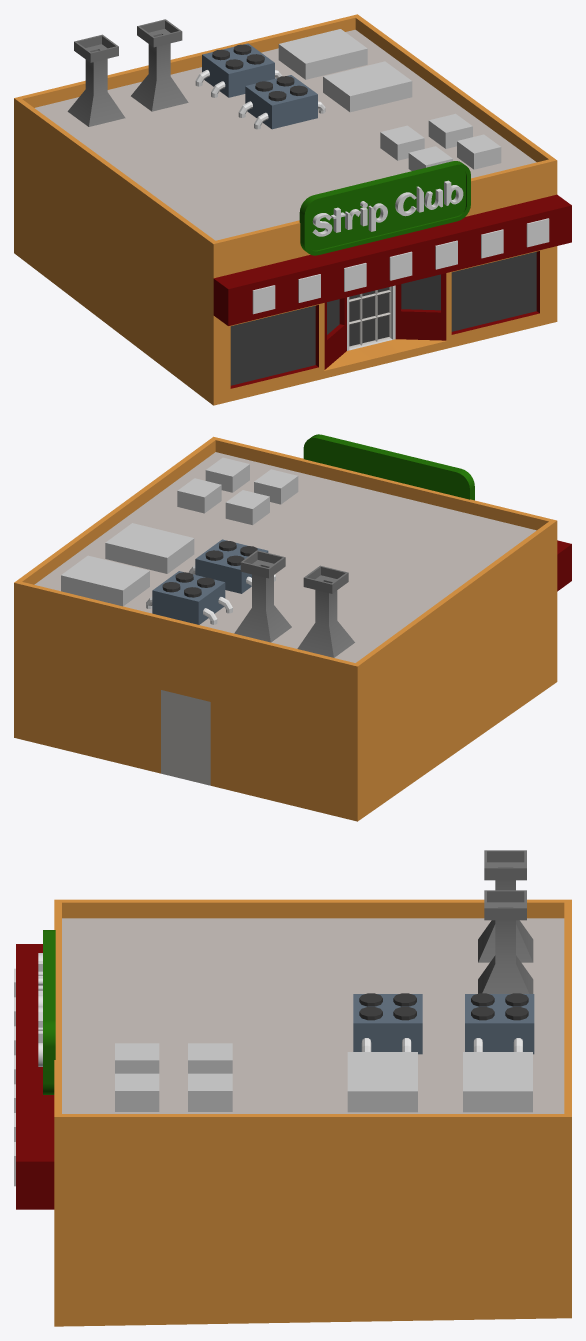
The model's file is 15 Strip_Club.fbx.
3 views of the same model, one above another, from view 1: azimuth 30°, elevation 25°; view 2: azimuth 150°, elevation 25°; view 3: azimuth 270°, elevation 25° (orthographic). The views are drawn at different scales.
Visible parts, largest first — view 1: Strip_Club; view 2: Strip_Club; view 3: Strip_Club.
Boxes of the visible parts, x1,y1,x2,y2 form: Strip_Club: (14,14,571,405); Strip_Club: (14,434,571,821); Strip_Club: (14,850,571,1326).
Bounding box in the file's own units: 173 × 106 × 187.
